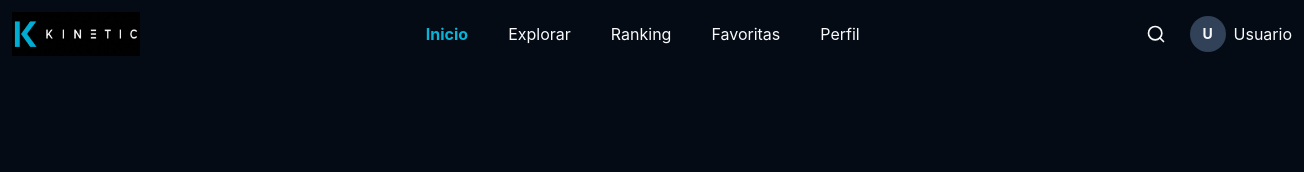
Test: NavBar › opens the search input when clicking the search icon
The width and height of the screenshot is (1304, 172).
Click the button named "buscar" at [1156, 34], box [1146, 24, 1166, 44]
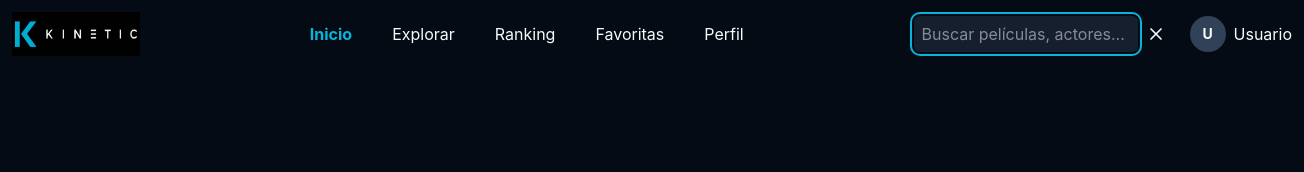
Expected: the search field with placeholder "Buscar películas, actores..." is shown, [914, 16, 1138, 52]
